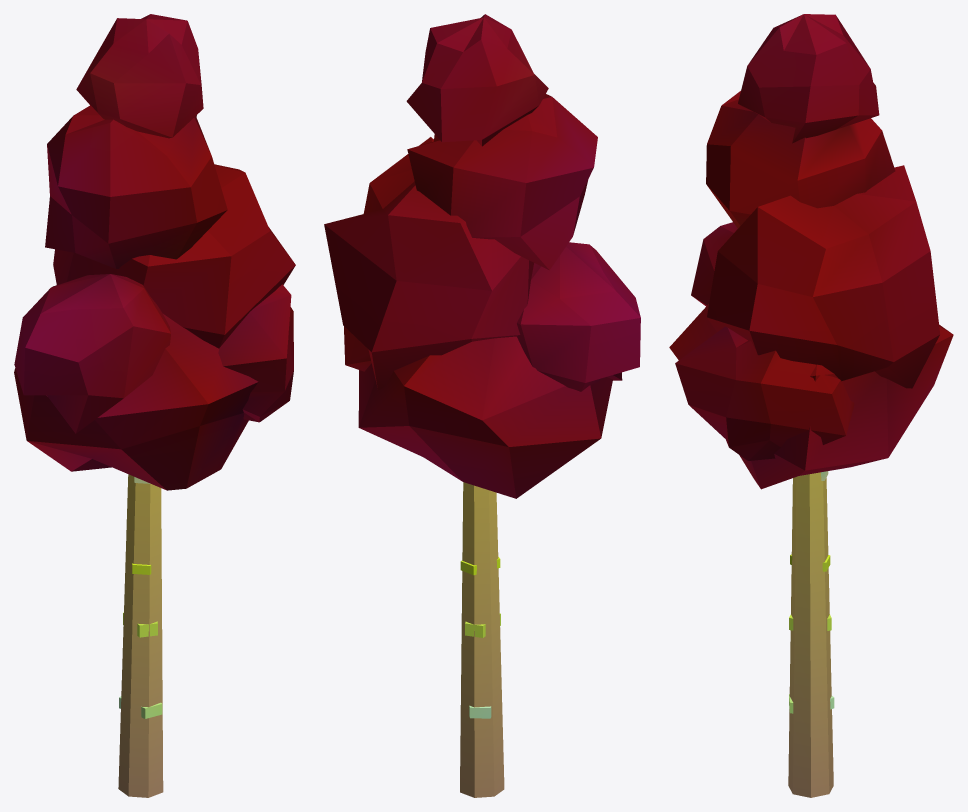
File: Tree_Birch_01.fbx
3 renders of one model, left to right at view 1: azimuth 30°, elevation 25°; view 2: azimuth 150°, elevation 25°; view 3: azimuth 270°, elevation 25°, orthographic.
Parts seen in each view (by area): view 1: Tree_Birch_01; view 2: Tree_Birch_01; view 3: Tree_Birch_01.
Boxes of the visible parts, x1,y1,x2,y2 form: Tree_Birch_01: (14, 14, 295, 797); Tree_Birch_01: (324, 14, 640, 797); Tree_Birch_01: (669, 14, 953, 797).
Size of the model in its own units: 2.31 by 6.23 by 2.07.
